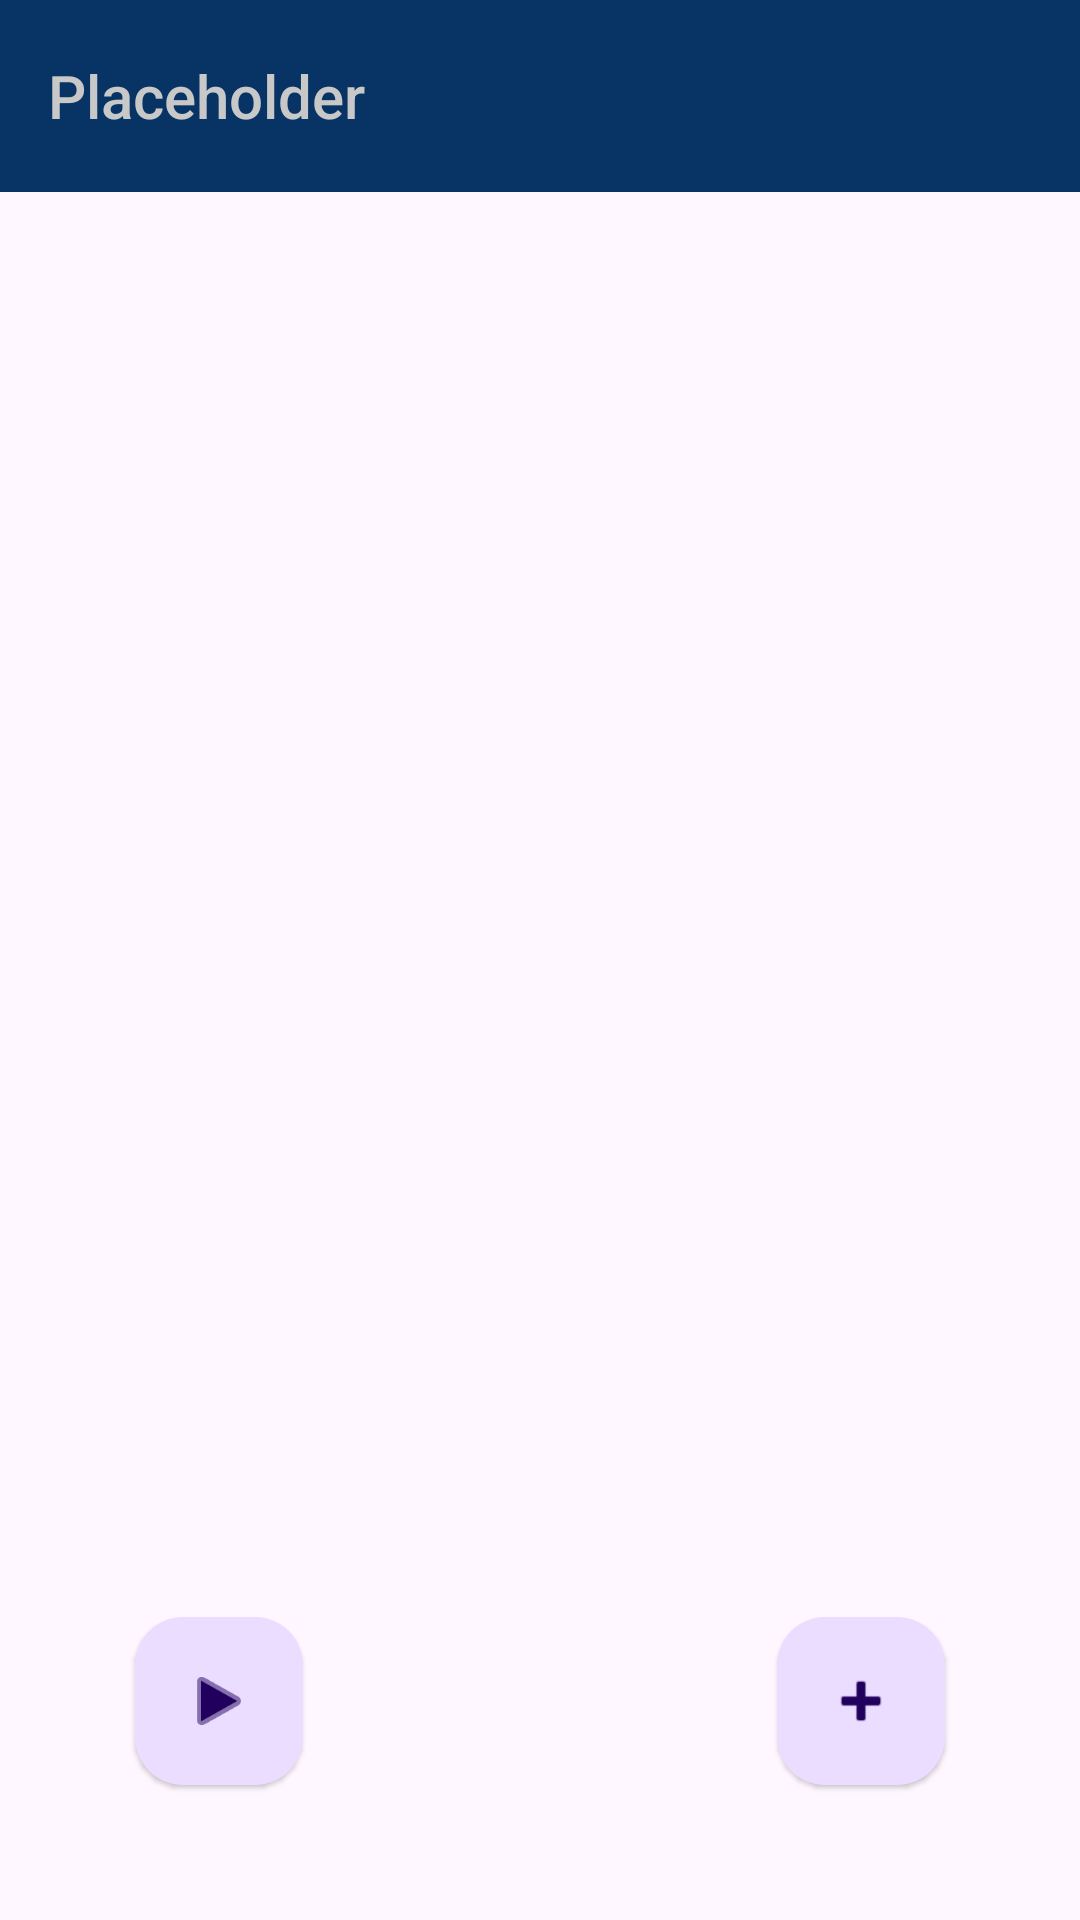

Icons on this 1080*1920 Android screen, each with its box as (x1=x1, y1=y1, x2=x2, y2=y2):
add: (x1=777, y1=1617, x2=945, y2=1785)
play: (x1=135, y1=1617, x2=303, y2=1785)
